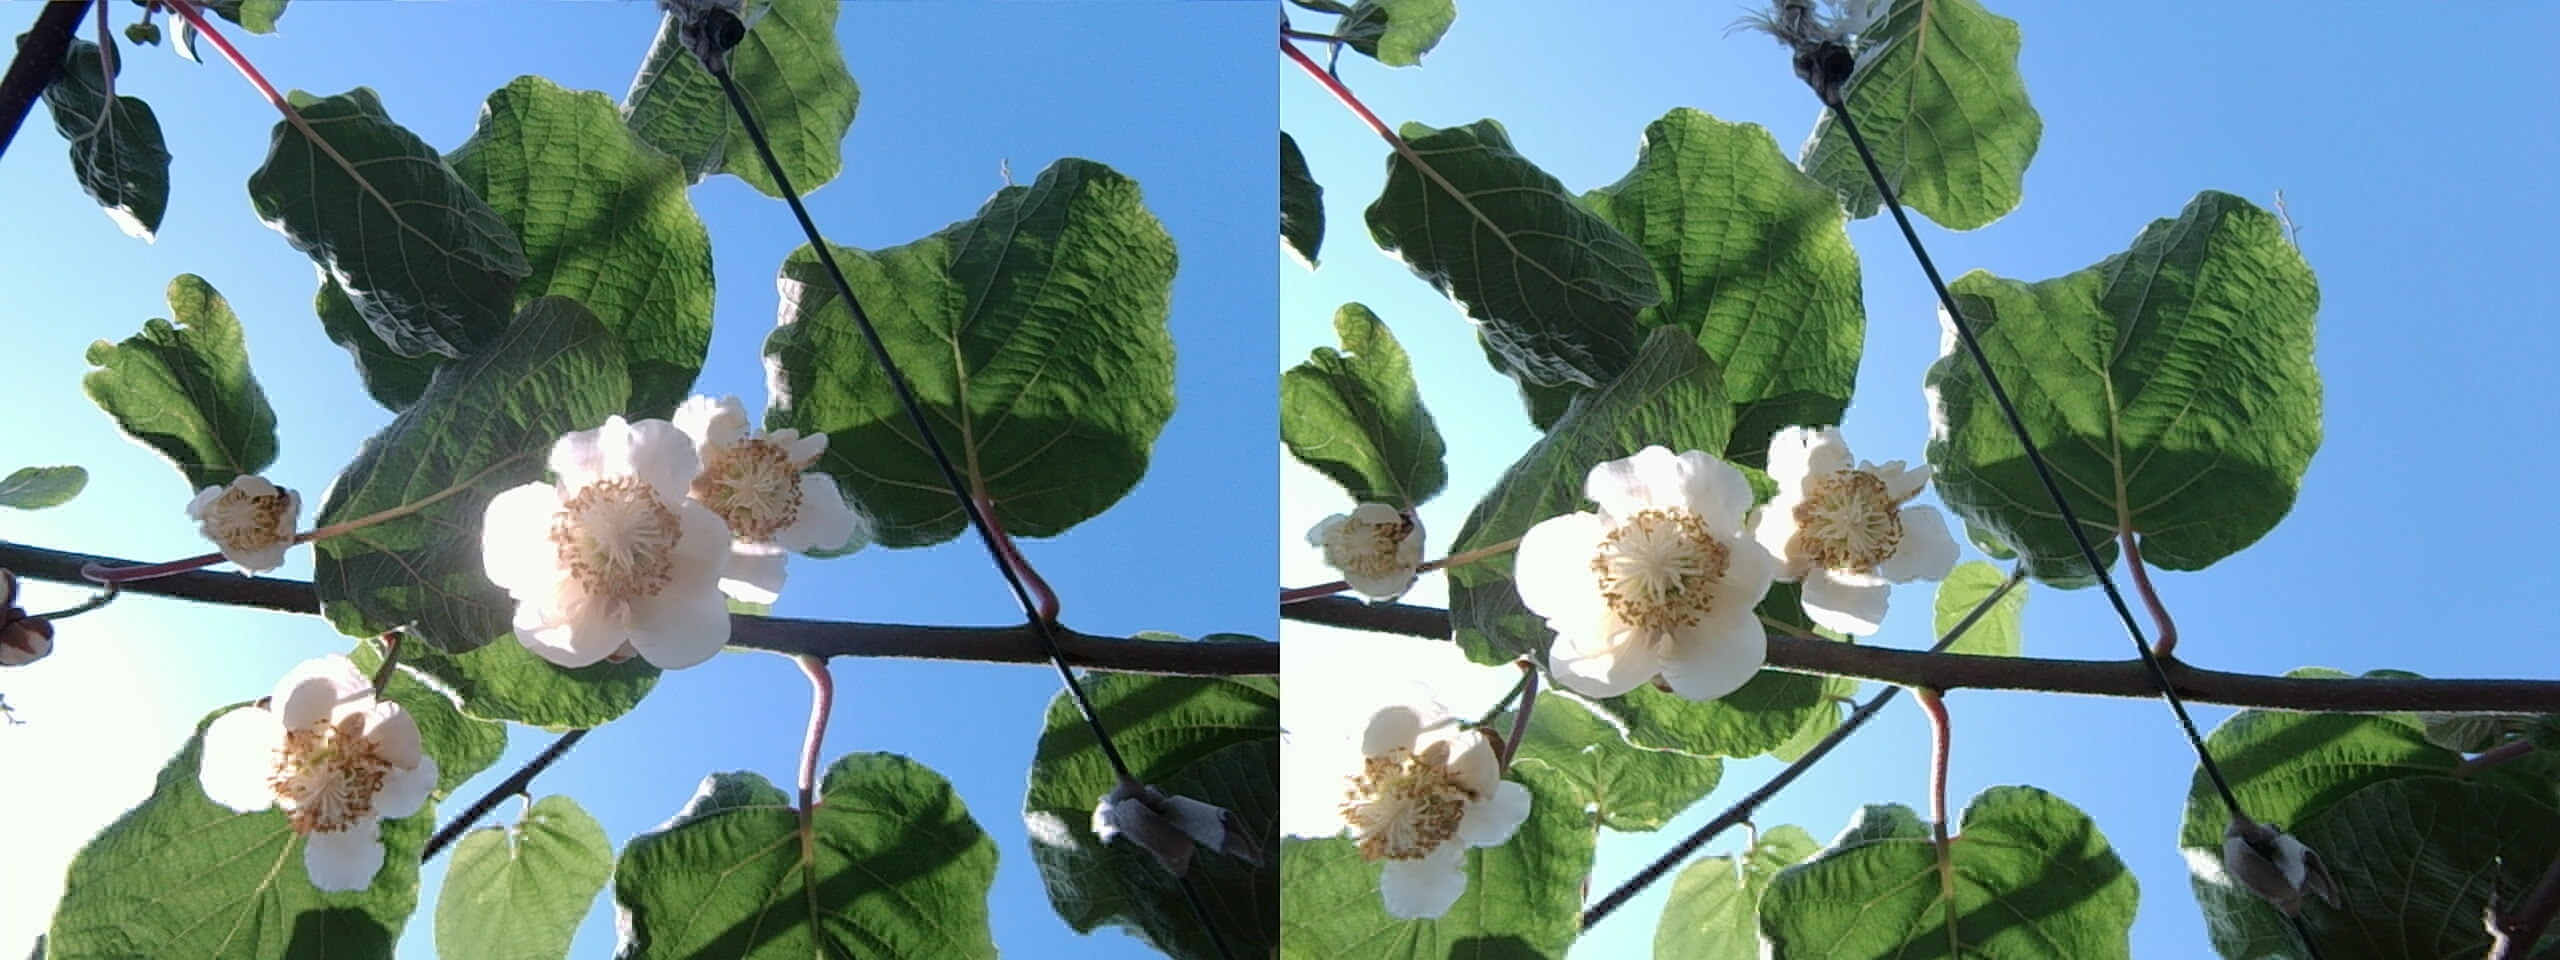flower: (478, 411, 735, 674), (1523, 439, 1781, 696), (202, 661, 434, 895), (1324, 697, 1530, 916), (1753, 420, 1949, 616), (674, 393, 851, 552)
